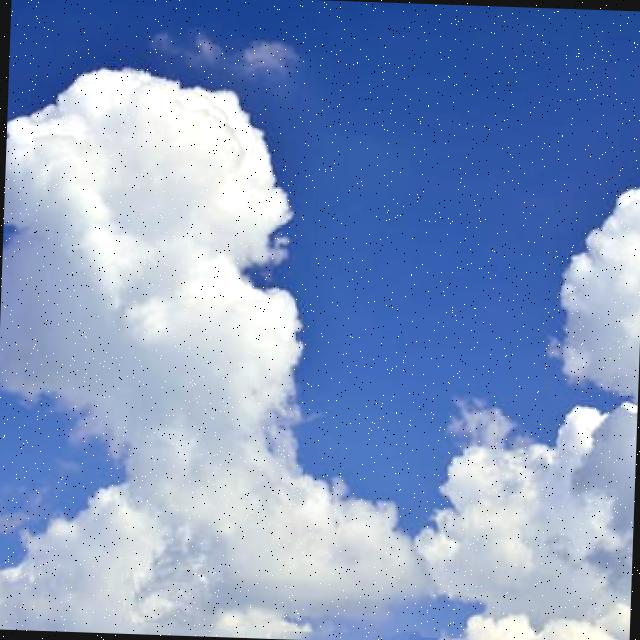Cu: (1, 46, 640, 640)
